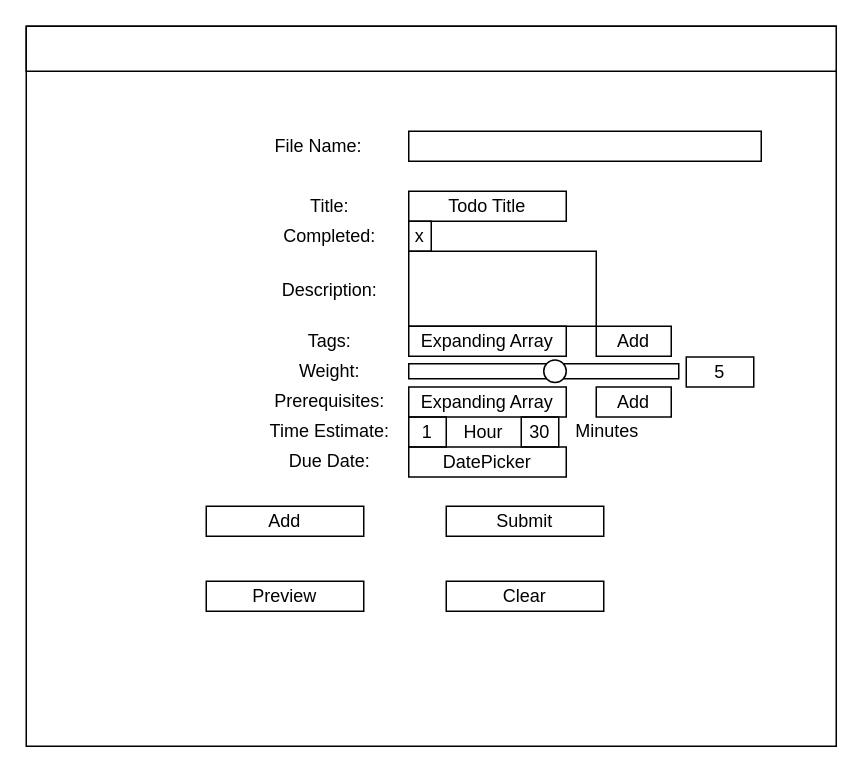
The diagram is 863 pixels wide and 773 high, and some of its shapes have lost their labels. The shapes that lost their labels are listed below. From the top down, each one's box as (x1, y1, x2, y2) in pixels, then its label:
(25, 25, 836, 71): NoteJsonifier
(407, 130, 761, 161): Test Data
(407, 250, 596, 326): Expandable textbox
